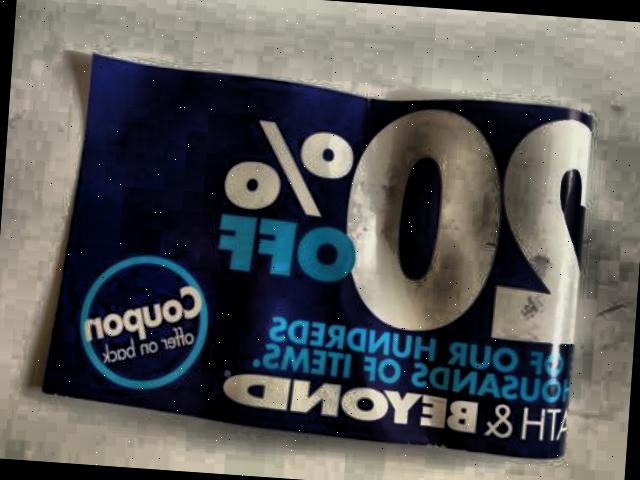Paper: (29, 42, 614, 480)
